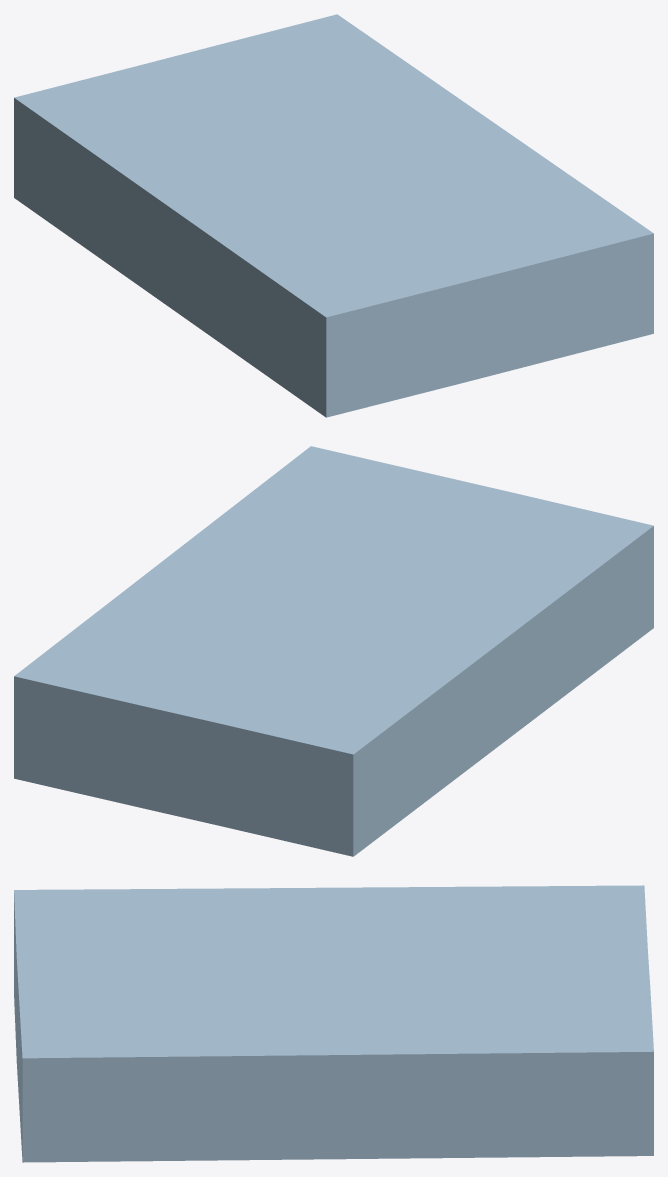
Rendered from osm_way_223859810.glb.
3 renders of one model, top to bottom at view 1: azimuth 30°, elevation 25°; view 2: azimuth 150°, elevation 25°; view 3: azimuth 270°, elevation 25°, orthographic. The views are drawn at different scales.
Parts seen in each view (by area): view 1: osm_way_223859810; view 2: osm_way_223859810; view 3: osm_way_223859810.
Part boxes in pixels (x1,y1,x2,y2): osm_way_223859810: (14, 14, 653, 417); osm_way_223859810: (14, 446, 653, 856); osm_way_223859810: (14, 885, 653, 1162).
Bounding box in the file's own units: 71.87 × 20.2 × 112.
